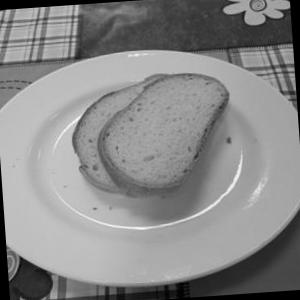bread: (64, 66, 245, 204)
